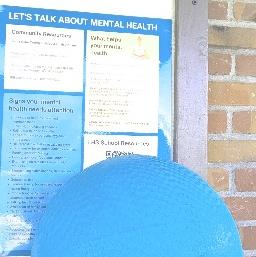algae: (28, 155, 241, 257)
